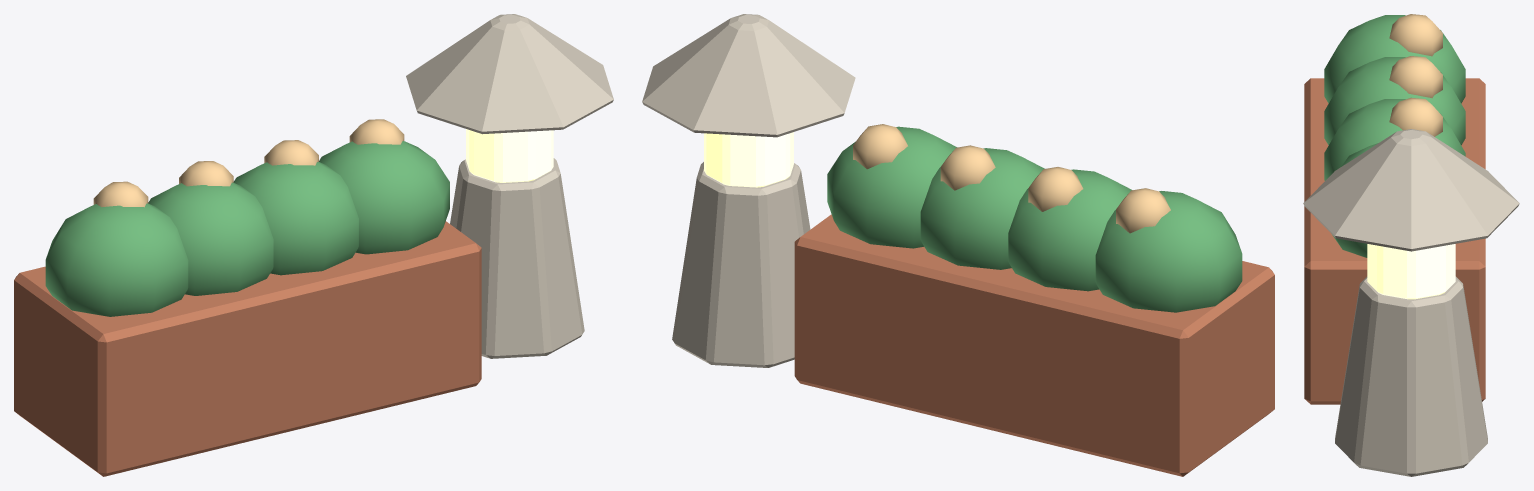
The model's file is w1_garden_cluster.glb.
3 views of the same model, side by side, from view 1: azimuth 30°, elevation 25°; view 2: azimuth 150°, elevation 25°; view 3: azimuth 270°, elevation 25° (orthographic). The views are drawn at different scales.
Visible parts, largest first — view 1: FlowerBox, Bush_0, LanternBase, Flower_0, LanternCore; view 2: FlowerBox, Bush_0, LanternBase, Flower_0, LanternCore; view 3: LanternBase, FlowerBox, Bush_0, Flower_0, LanternCore.
Part boxes in pixels (x1,y1,x2,y2): FlowerBox: (14,221,481,476); Bush_0: (45,141,449,316); LanternBase: (406,14,613,358); Flower_0: (93,119,404,207); LanternCore: (466,129,553,182); FlowerBox: (794,214,1274,476); Bush_0: (827,126,1242,312); LanternBase: (642,14,855,367); Flower_0: (853,124,1170,233); LanternCore: (704,132,793,187); LanternBase: (1303,129,1519,476); FlowerBox: (1304,78,1485,404); Bush_0: (1324,15,1465,257); Flower_0: (1389,14,1442,136); LanternCore: (1367,244,1455,299).
Bounding box in the file's own units: 1.95 × 1.04 × 0.6558.
